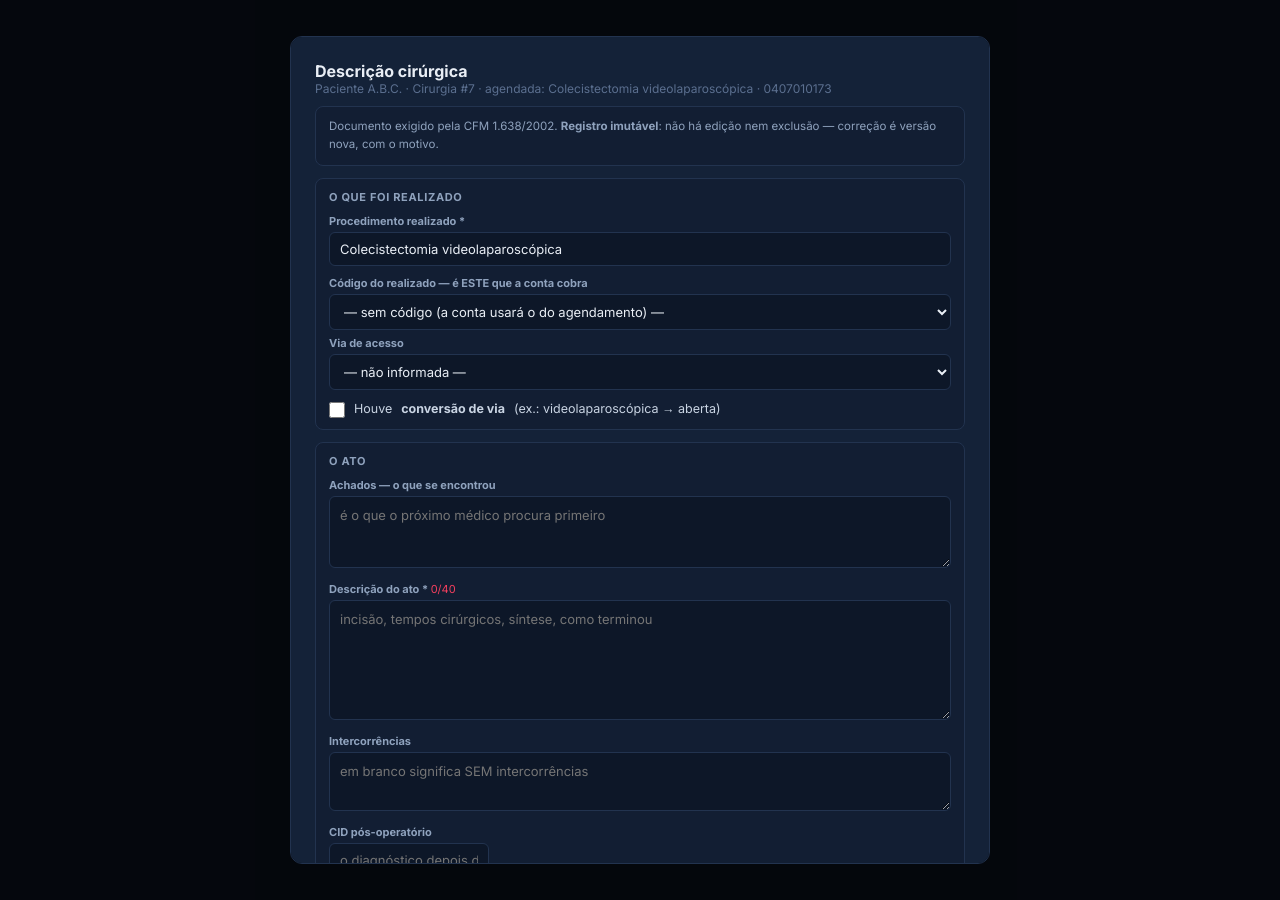
Scenario: 🔴 o modal da descrição cirúrgica › o botão de gravar fica desligado até a narrativa chegar ao mínimo
In the text box with placeholder "incisão, tempos cirúrgicos, síntese, como terminou": (640, 660) top-left (329, 600), bottom-right (951, 720), type "Incisão subcostal direita. Colecistectomia sem intercorrências, colédoco preservado."
(page scrolled)
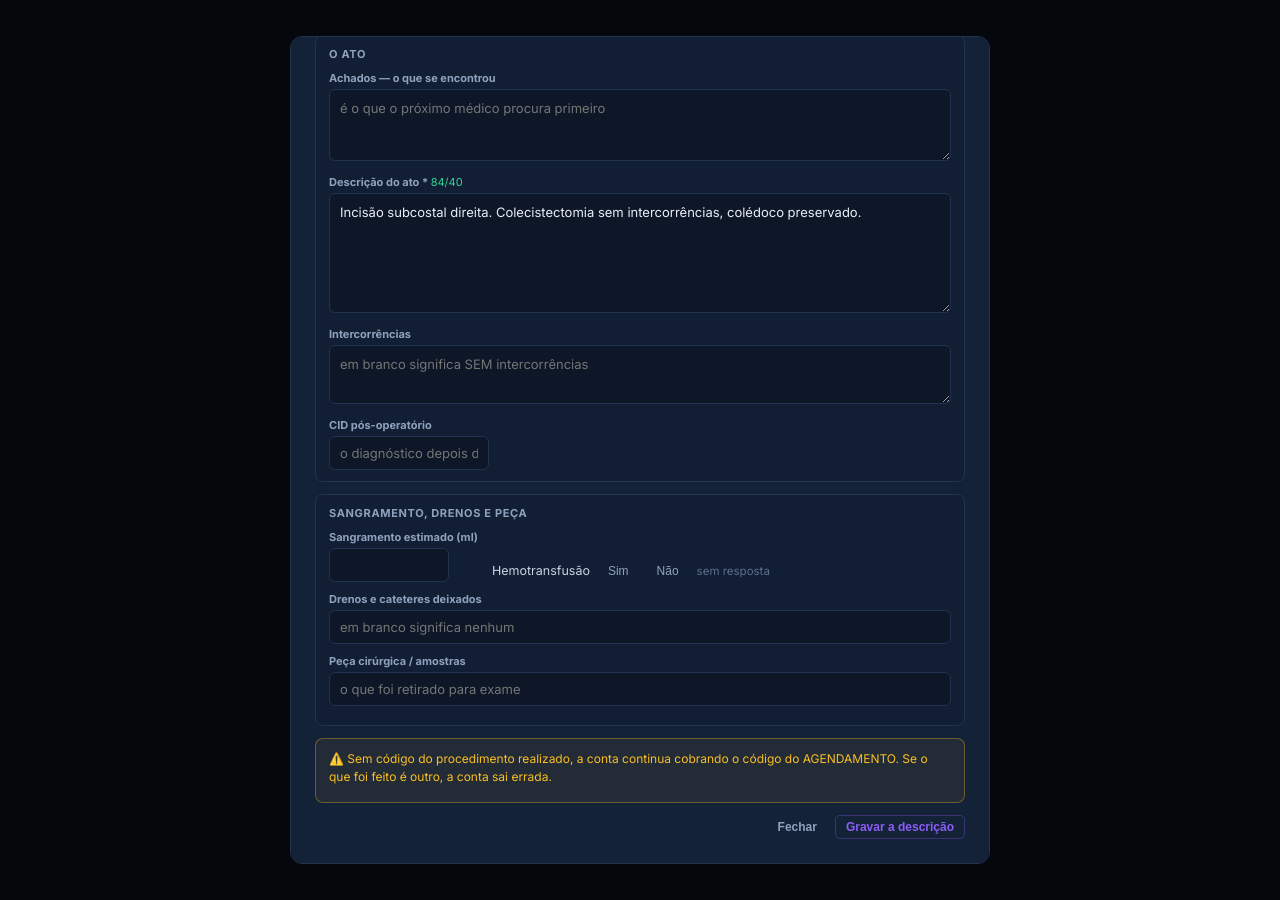
Check: the button "Gravar a descrição" is enabled, box top-left (835, 815), bottom-right (965, 839)
